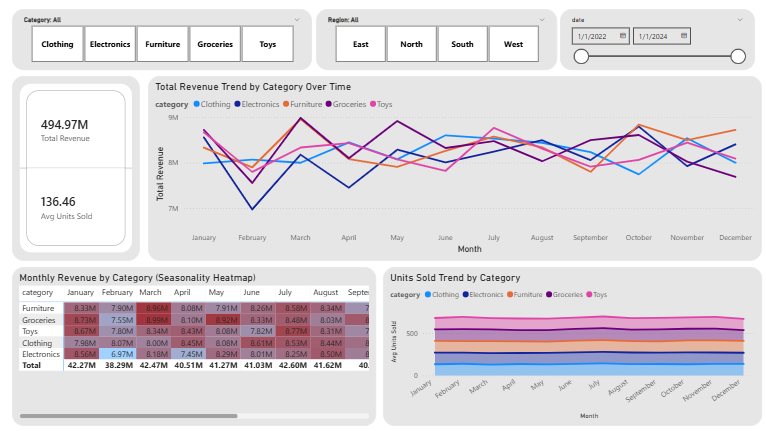

The dashboard page shown, as its layout file describes it:
{"tool":"powerbi","page":{"name":"Trends & Seasonality","canvas":[1280,720],"ordinal":1},"visuals":[{"type":"slicer","fields":{"Values":["retail_db sales_transactions.category"]},"box":[21.7,15,500,101.7],"z":0},{"type":"slicer","fields":{"Values":["retail_db sales_transactions.region"]},"box":[528.3,15,401.7,101.7],"z":1000},{"type":"slicer","fields":{"Values":["retail_db sales_transactions.date"]},"box":[935,15,325,101.7],"z":2000},{"type":"lineChart","title":"Total Revenue Trend by Category Over Time","fields":{"Category":["retail_db sales_transactions.date.Variation.Date Hierarchy.Month"],"Y":["retail_db sales_transactions.Total Revenue"],"Series":["retail_db sales_transactions.category"]},"box":[248.3,126.6,1023.3,308.3],"z":3000},{"type":"stackedAreaChart","title":"Units Sold Trend by Category","fields":{"Category":["retail_db sales_transactions.date.Variation.Date Hierarchy.Month"],"Y":["retail_db sales_transactions.Avg Units Sold"],"Series":["retail_db sales_transactions.category"]},"box":[640,445,631.7,265],"z":4000},{"type":"cardVisual","fields":{"Data":["retail_db sales_transactions.Total Revenue","retail_db sales_transactions.Avg Units Sold"]},"box":[21.7,126.6,213.3,308.3],"z":5000},{"type":"pivotTable","title":"Monthly Revenue by Category (Seasonality Heatmap)","fields":{"Rows":["retail_db sales_transactions.category"],"Columns":["retail_db sales_transactions.date.Variation.Date Hierarchy.Month"],"Values":["retail_db sales_transactions.Total Revenue"]},"box":[21.7,445,606.7,265],"z":6000}]}

Visuals, with their boxes in screenshot pixels (x1, y1, x2, y2), scaled from the page's 1280x720 canvas onto the 766x431 screenshot:
slicer - retail_db sales_transactions.category: {"left": 13, "top": 9, "right": 312, "bottom": 70}
slicer - retail_db sales_transactions.region: {"left": 316, "top": 9, "right": 557, "bottom": 70}
slicer - retail_db sales_transactions.date: {"left": 560, "top": 9, "right": 754, "bottom": 70}
"Total Revenue Trend by Category Over Time" lineChart: {"left": 149, "top": 76, "right": 761, "bottom": 260}
"Units Sold Trend by Category" stackedAreaChart: {"left": 383, "top": 266, "right": 761, "bottom": 425}
cardVisual - retail_db sales_transactions.Total Revenue x retail_db sales_transactions.Avg Units Sold: {"left": 13, "top": 76, "right": 141, "bottom": 260}
"Monthly Revenue by Category (Seasonality Heatmap)" pivotTable: {"left": 13, "top": 266, "right": 376, "bottom": 425}
